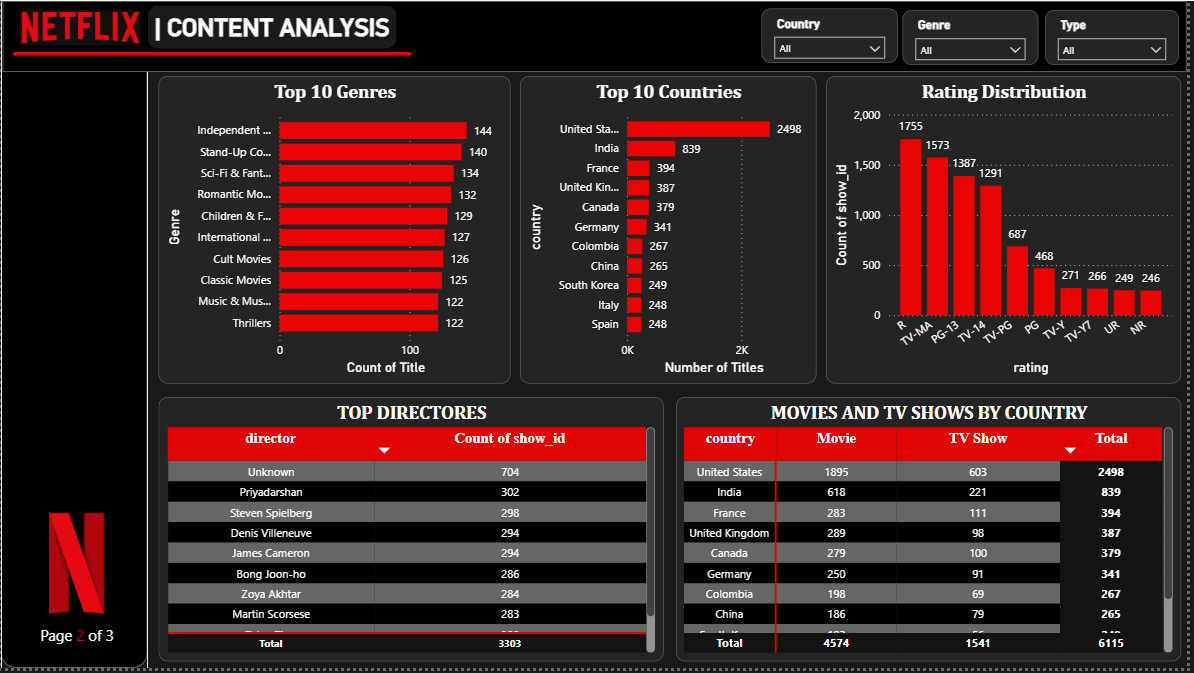

What the dashboard file says about the page in this screenshot:
{"tool":"powerbi","page":{"name":"Page 2","canvas":[1280,720],"ordinal":1},"visuals":[{"type":"shape","box":[0,0,158,720],"z":0},{"type":"shape","box":[1.7,0,1278.3,76.7],"z":1000},{"type":"clusteredBarChart","title":"Top 10 Genres","fields":{"Category":["netflix_titles.listed_in"],"Y":["CountNonNull(netflix_titles.show_id)"]},"box":[170,81.7,380,331.7],"z":2000},{"type":"shape","box":[158.2,5.5,268.2,46.4],"z":3000},{"type":"clusteredBarChart","title":"Top 10 Countries","fields":{"Category":["netflix_titles.country"],"Y":["CountNonNull(netflix_titles.show_id)"]},"box":[560,81.7,320,331.7],"z":4000},{"type":"clusteredColumnChart","title":"Rating Distribution","fields":{"Category":["netflix_titles.rating"],"Y":["CountNonNull(netflix_titles.show_id)"]},"box":[890,81.7,383.3,331.7],"z":5000},{"type":"tableEx","title":"TOP DIRECTORES","fields":{"Values":["netflix_titles.director","netflix_titles.show_id"]},"box":[170,426.7,545,285],"z":6000},{"type":"slicer","fields":{"Values":["netflix_titles.country"]},"box":[820.6,8.9,147.2,58.9],"z":7000},{"type":"image","box":[13.6,10,144.5,38.2],"z":8000},{"type":"shape","box":[13.3,45,430,23.3],"z":9000},{"type":"slicer","fields":{"Values":["netflix_titles.listed_in"]},"box":[973.6,9.1,146.4,59],"z":10000},{"type":"slicer","fields":{"Values":["netflix_titles.type"]},"box":[1127.3,9.1,144.5,59],"z":11000},{"type":"pivotTable","title":"MOVIES AND TV SHOWS BY COUNTRY","fields":{"Rows":["netflix_titles.Country"],"Columns":["netflix_titles.type"],"Values":["CountNonNull(netflix_titles.show_id)"]},"box":[728.3,426.7,545,285],"z":12000},{"type":"textbox","box":[28.3,673.3,105,38.3],"z":13000},{"type":"image","box":[1.7,548.3,160,118.3],"z":14000}]}

Visuals, with their boxes in screenshot pixels (x1, y1, x2, y2), scaled from the page's 1280x720 canvas onto the 1194x673 screenshot:
shape: region(0, 0, 147, 672)
shape: region(2, 0, 1193, 72)
"Top 10 Genres" clusteredBarChart: region(159, 76, 513, 386)
shape: region(148, 5, 398, 49)
"Top 10 Countries" clusteredBarChart: region(522, 76, 821, 386)
"Rating Distribution" clusteredColumnChart: region(830, 76, 1188, 386)
"TOP DIRECTORES" tableEx: region(159, 399, 667, 665)
slicer - netflix_titles.country: region(765, 8, 903, 63)
image: region(13, 9, 147, 45)
shape: region(12, 42, 414, 64)
slicer - netflix_titles.listed_in: region(908, 9, 1045, 64)
slicer - netflix_titles.type: region(1052, 9, 1186, 64)
"MOVIES AND TV SHOWS BY COUNTRY" pivotTable: region(679, 399, 1188, 665)
textbox: region(26, 629, 124, 665)
image: region(2, 513, 151, 623)
